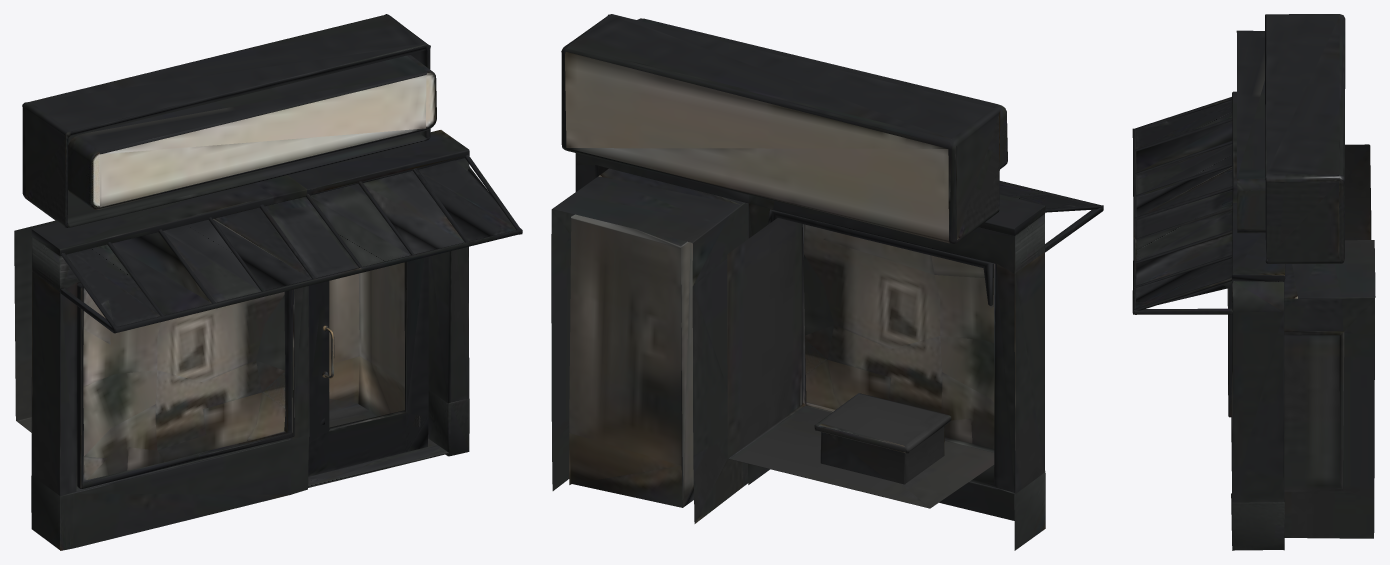
File: storefront.glb
3 views of the same model, side by side, from view 1: azimuth 30°, elevation 25°; view 2: azimuth 150°, elevation 25°; view 3: azimuth 270°, elevation 25° (orthographic). The views are drawn at different scales.
Size of the model in its own units: 1 by 0.9351 by 0.5623.
Materials: 1 (1 with a texture image).
